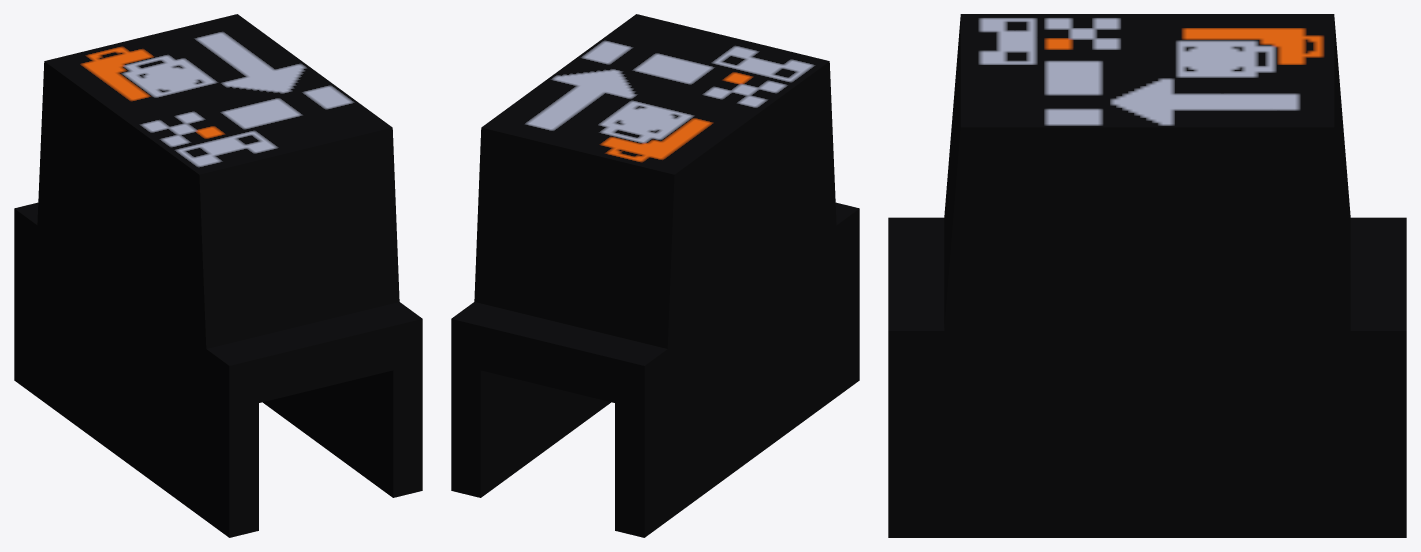
File: rengen.fbx
3 renders of one model, left to right at view 1: azimuth 30°, elevation 25°; view 2: azimuth 150°, elevation 25°; view 3: azimuth 270°, elevation 25°, orthographic. The views are drawn at different scales.
Parts seen in each view (by area): view 1: Куб.156; view 2: Куб.156; view 3: Куб.156.
Boxes of the visible parts, left/top/right/bottom form: Куб.156: left=14, top=14, right=422, bottom=537; Куб.156: left=451, top=14, right=859, bottom=537; Куб.156: left=888, top=14, right=1406, bottom=537.
Bounding box in the file's own units: 104 × 175 × 200.
